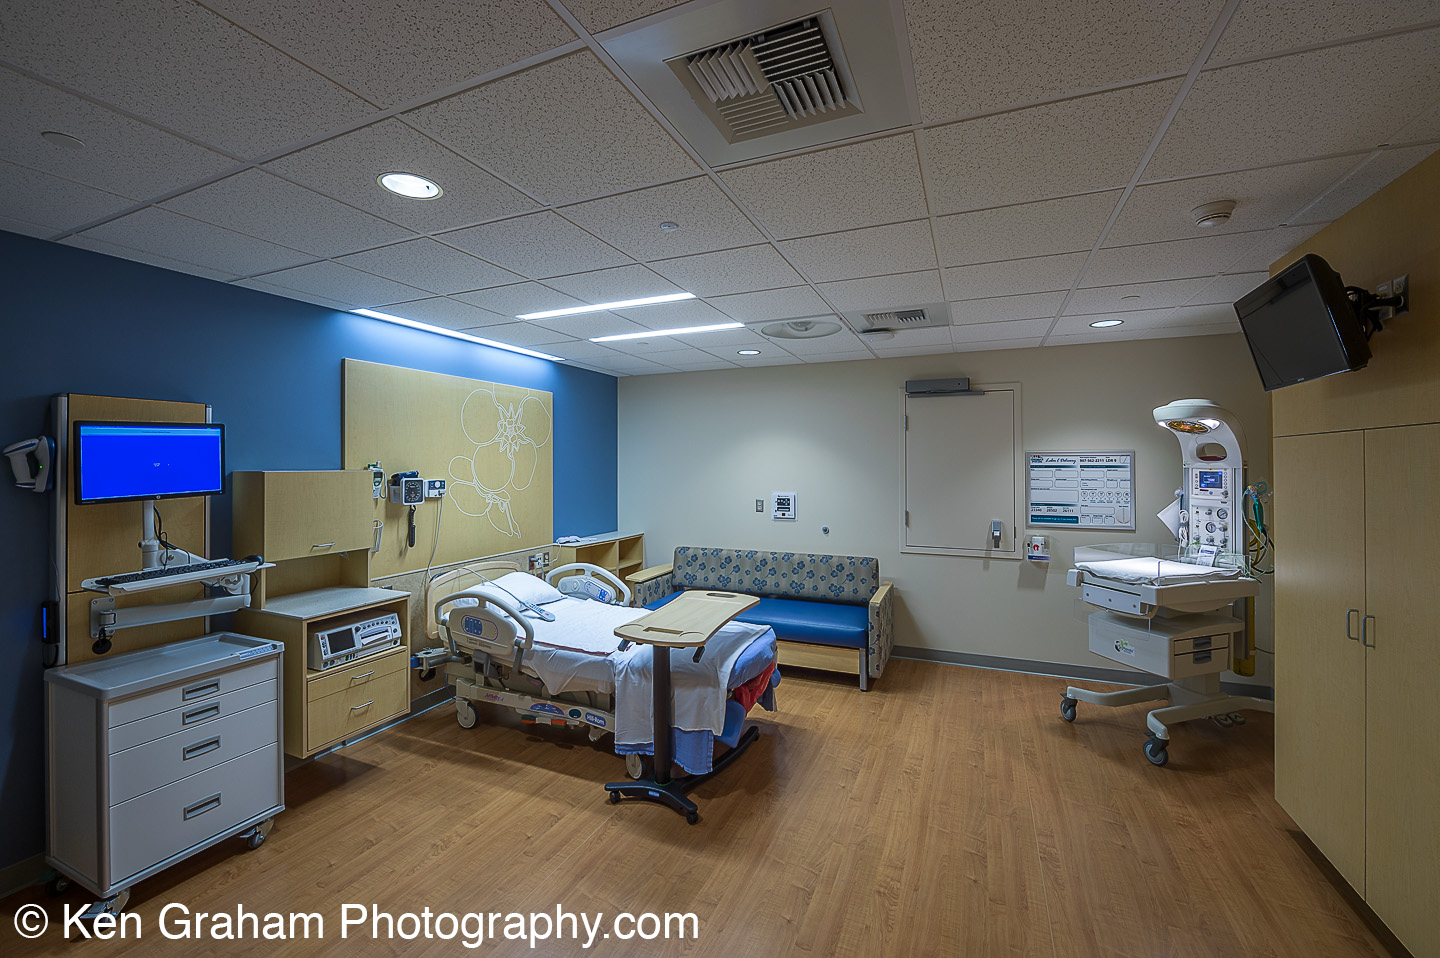hospital bed: (429, 561, 778, 745), (603, 587, 760, 667)
